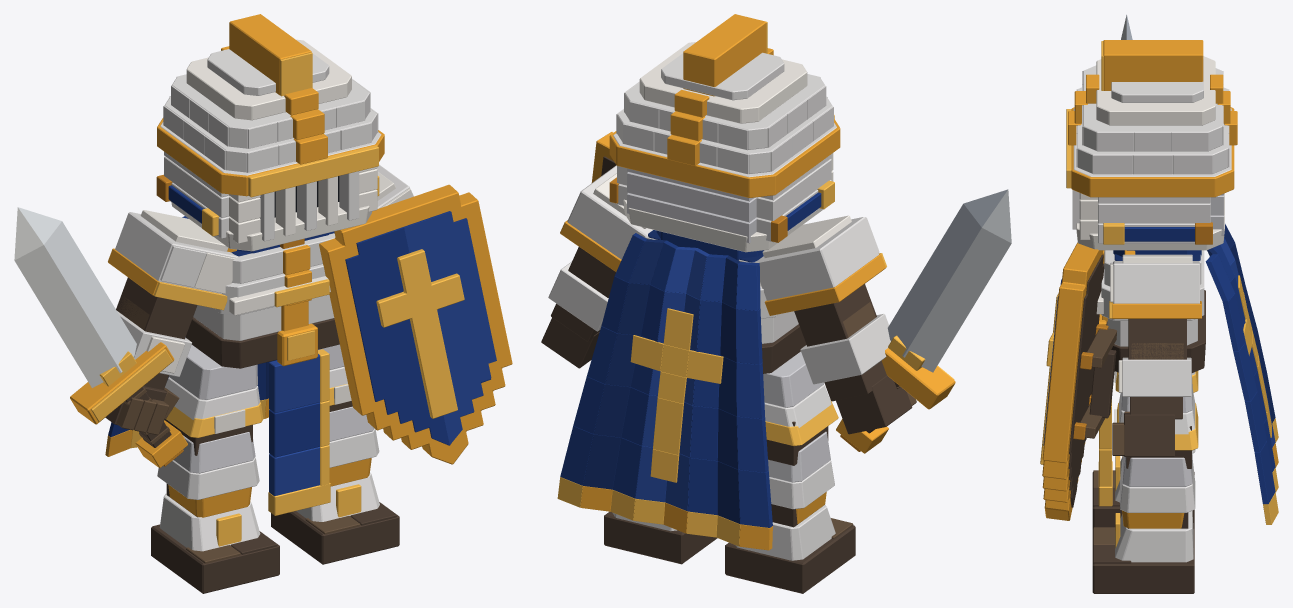
The model's file is paladin.glb.
3 renders of one model, left to right at view 1: azimuth 30°, elevation 25°; view 2: azimuth 150°, elevation 25°; view 3: azimuth 270°, elevation 25°, orthographic. The views are drawn at different scales.
Visible parts, largest first — view 1: Shield solid gold stepped rim, Sword diamond-section blade, Shield recessed cobalt face, Shield blue light facet, Shield raised sacred cross, Boot sole -1, Helmet crown step, Boot sole 1, Leather belt, Raised gold crest, Brow front highlight, Pauldron body -1 (+55 smaller); view 2: Sword diamond-section blade, Pauldron body -1, Gold brow band, Boot sole -1, Helmet crown step, Raised gold crest, Forearm vambrace -1, Boot sole 1, Pauldron body 1, Helmet rear course 01, Helmet crown cap, Glove palm -1 (+79 smaller); view 3: Shield solid gold stepped rim, Raised gold crest, Gold brow band, Pauldron body 1, Helmet crown step, Boot sole 1, Shield leather backing, Ankle white sabaton 1, Forearm vambrace 1, Helmet dome course 02, Temple plate 1 1, Upper arm padded 1 (+52 smaller).
Boxes of the visible parts, <box> form: Shield solid gold stepped rim: <box>319,184,512,464</box>; Sword diamond-section blade: <box>14,207,136,387</box>; Shield recessed cobalt face: <box>345,211,490,445</box>; Shield blue light facet: <box>404,212,496,444</box>; Shield raised sacred cross: <box>376,249,464,418</box>; Boot sole -1: <box>151,524,279,593</box>; Helmet crown step: <box>186,39,351,120</box>; Boot sole 1: <box>271,507,399,564</box>; Leather belt: <box>186,317,339,368</box>; Raised gold crest: <box>229,14,311,95</box>; Brow front highlight: <box>248,145,378,197</box>; Pauldron body -1: <box>115,212,238,293</box>; Sword diamond-section blade: <box>887,189,1011,372</box>; Pauldron body -1: <box>754,217,878,300</box>; Gold brow band: <box>609,118,840,197</box>; Boot sole -1: <box>725,525,855,593</box>; Helmet crown step: <box>639,42,807,123</box>; Raised gold crest: <box>683,14,766,96</box>; Forearm vambrace -1: <box>800,314,890,384</box>; Boot sole 1: <box>604,511,717,564</box>; Pauldron body 1: <box>567,165,653,259</box>; Helmet rear course 01: <box>627,172,756,222</box>; Helmet crown cap: <box>661,52,784,100</box>; Glove palm -1: <box>836,375,912,434</box>; Shield solid gold stepped rim: <box>1042,242,1104,520</box>; Raised gold crest: <box>1103,40,1203,90</box>; Gold brow band: <box>1071,107,1234,197</box>; Pauldron body 1: <box>1113,261,1199,303</box>; Helmet crown step: <box>1096,56,1215,125</box>; Boot sole 1: <box>1092,528,1194,593</box>; Shield leather backing: <box>1068,254,1104,507</box>; Ankle white sabaton 1: <box>1115,510,1193,562</box>; Forearm vambrace 1: <box>1122,357,1191,396</box>; Helmet dome course 02: <box>1083,65,1222,151</box>; Temple plate 1 1: <box>1098,203,1210,223</box>; Upper arm padded 1: <box>1128,319,1186,359</box>.
Bounding box in the file's own units: 2.06 × 2.2 × 0.9507.
